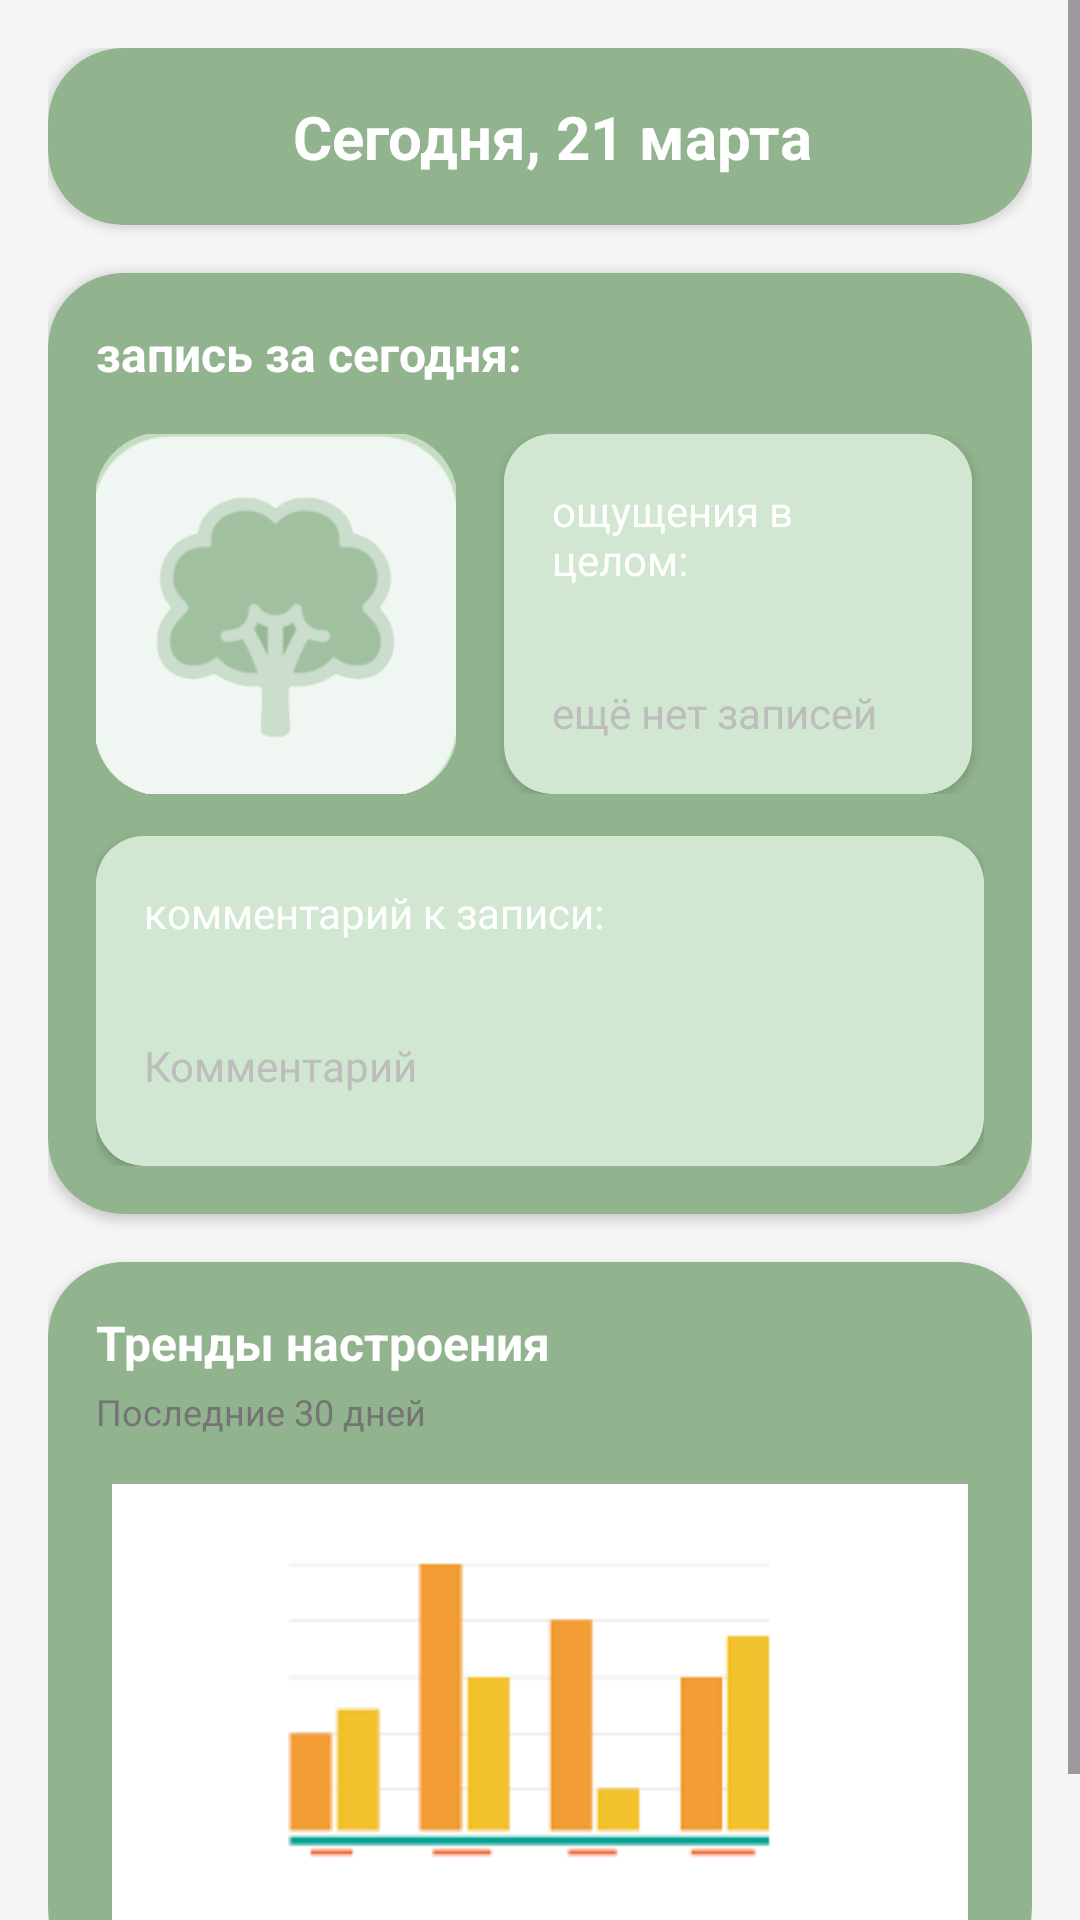

Where to tap for icons on this 1080px×1920px app screen, as [x,y]:
tree: [276,614]
